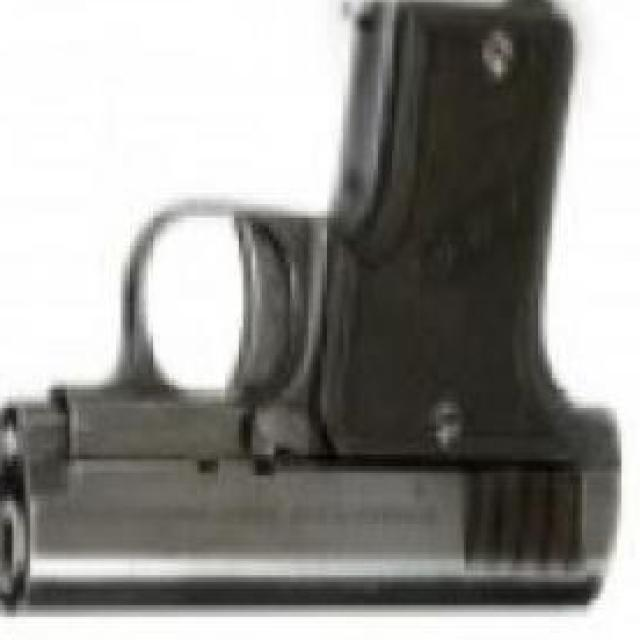pistol: (0, 0, 626, 622)
